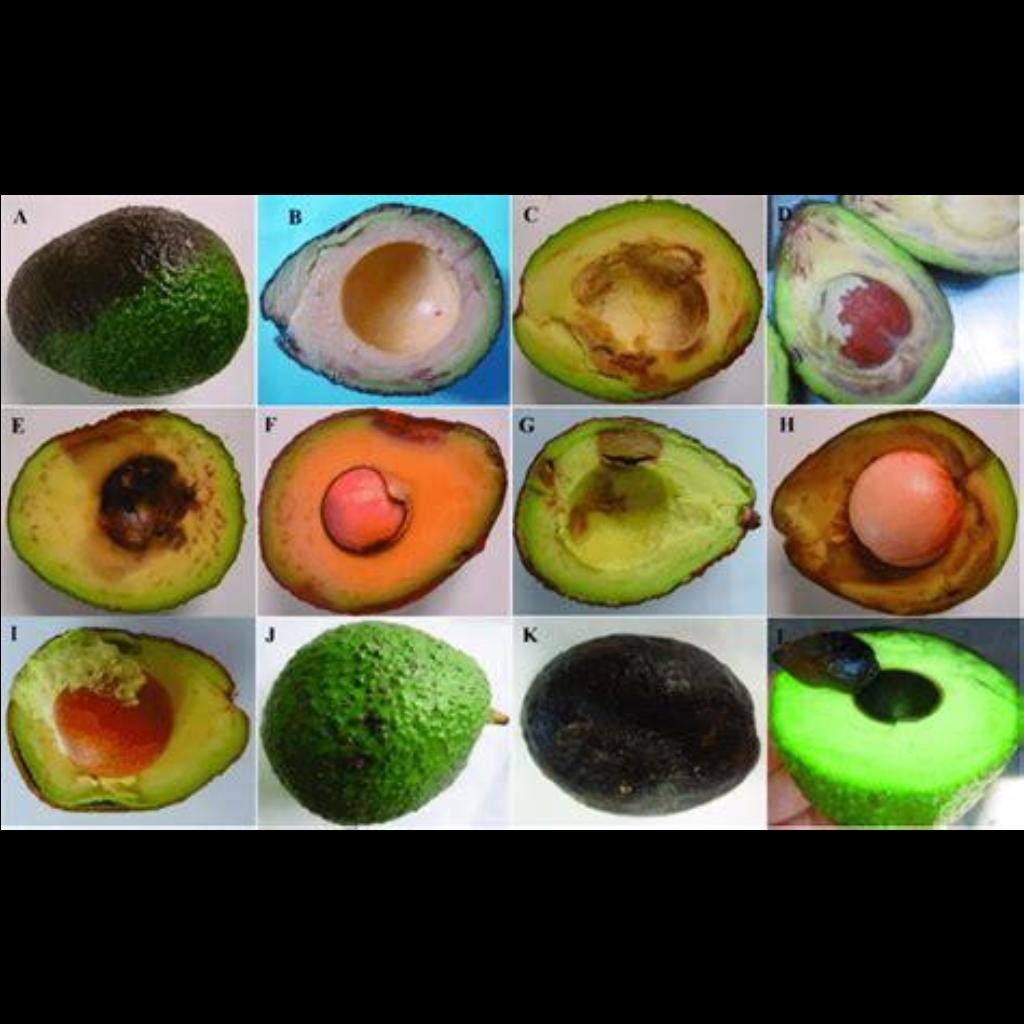Anthracnose: (780, 420, 1024, 626), (1, 420, 245, 618), (522, 618, 752, 818), (520, 422, 754, 608), (520, 217, 750, 405), (264, 630, 480, 810)
